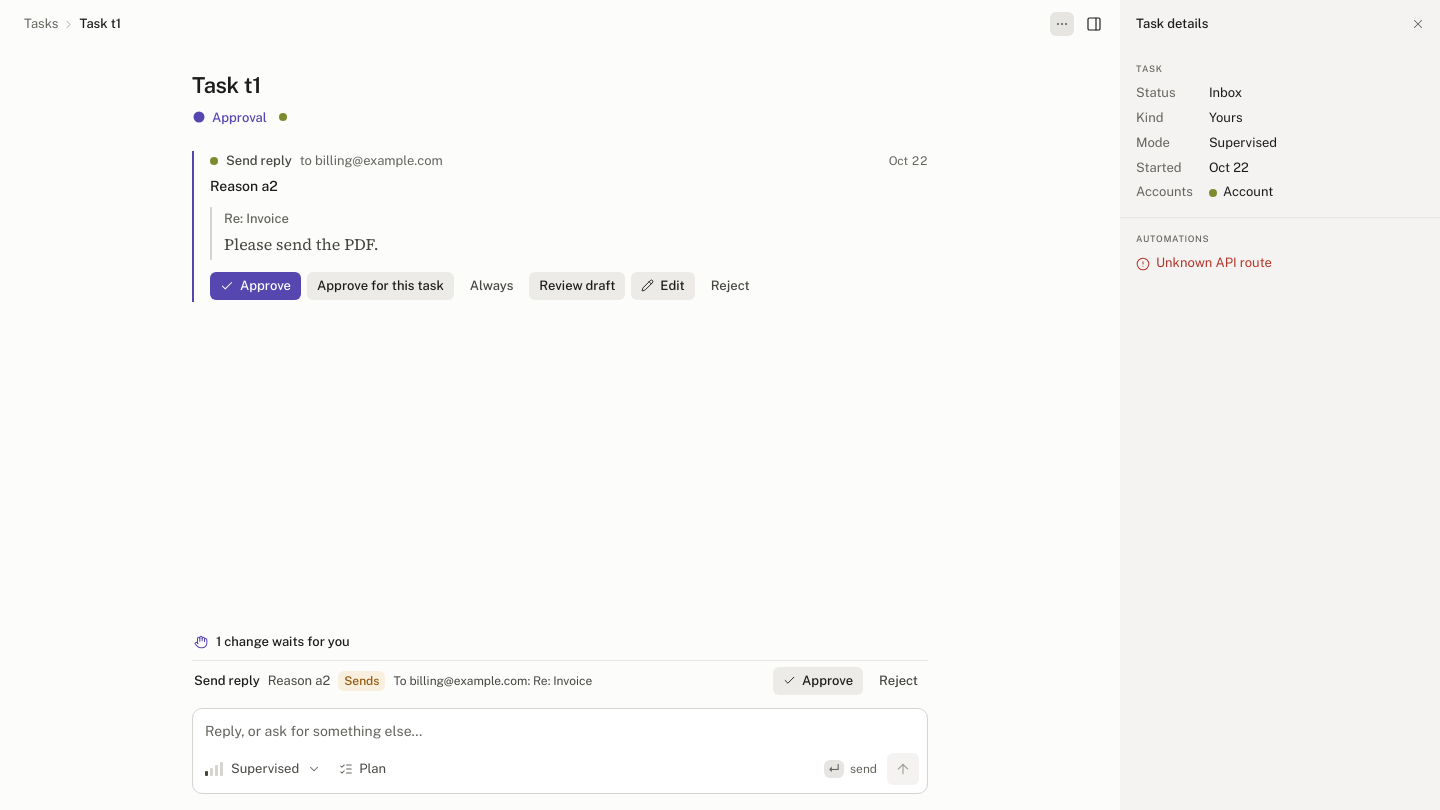
R5-6 approvals need the record › R5-15: a decided approval leaves the panel at once and cannot be approved twice
This screenshot has width=1440, height=810.
Click the button with aria-label "Approve: Reason a2". click: point(818, 680)
box: [773,666,863,694]
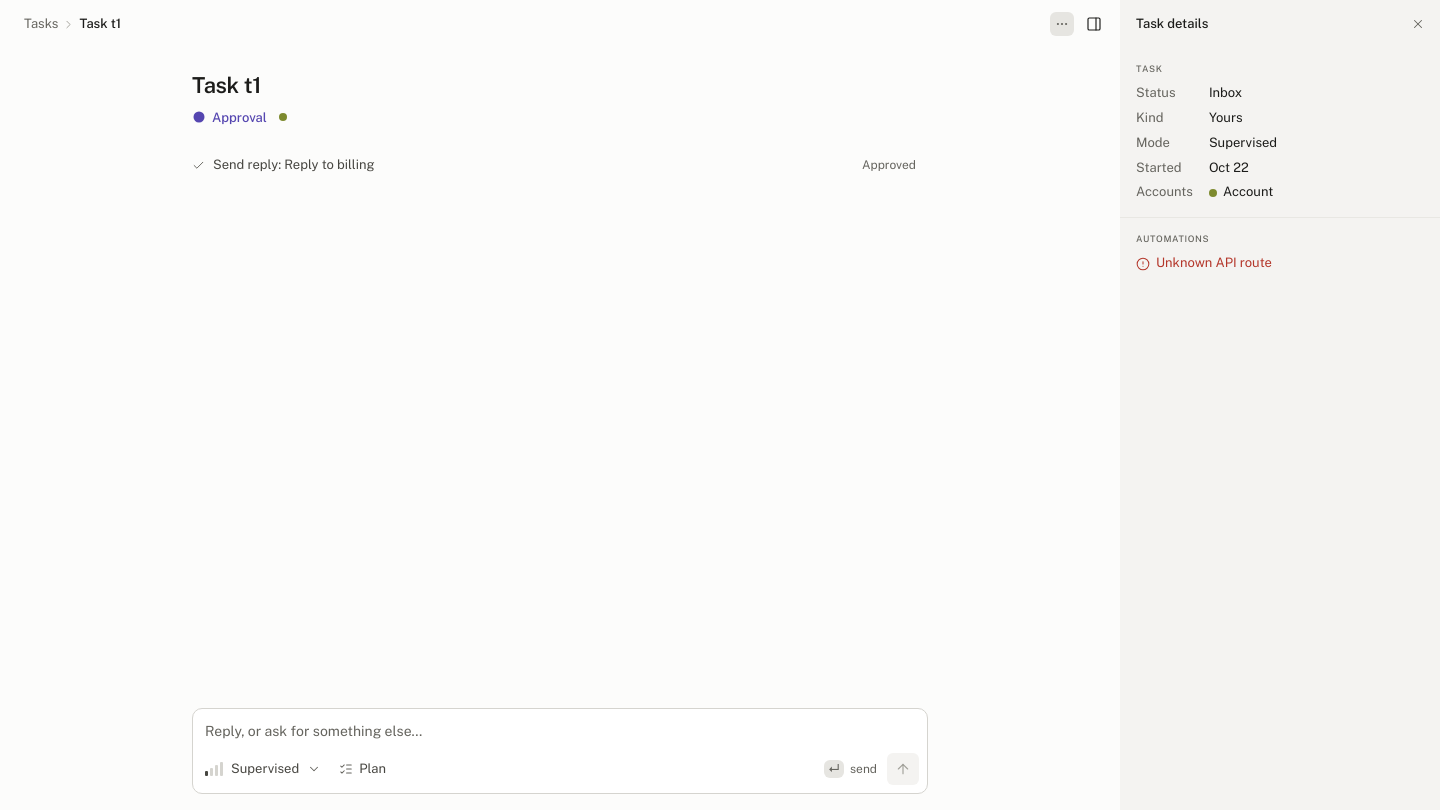
Now the heading "wait" is gone
Now the heading "Reason a2" is gone
